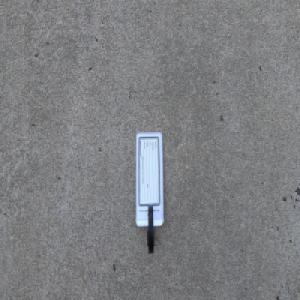LuggageTag: (134, 130, 165, 256)
